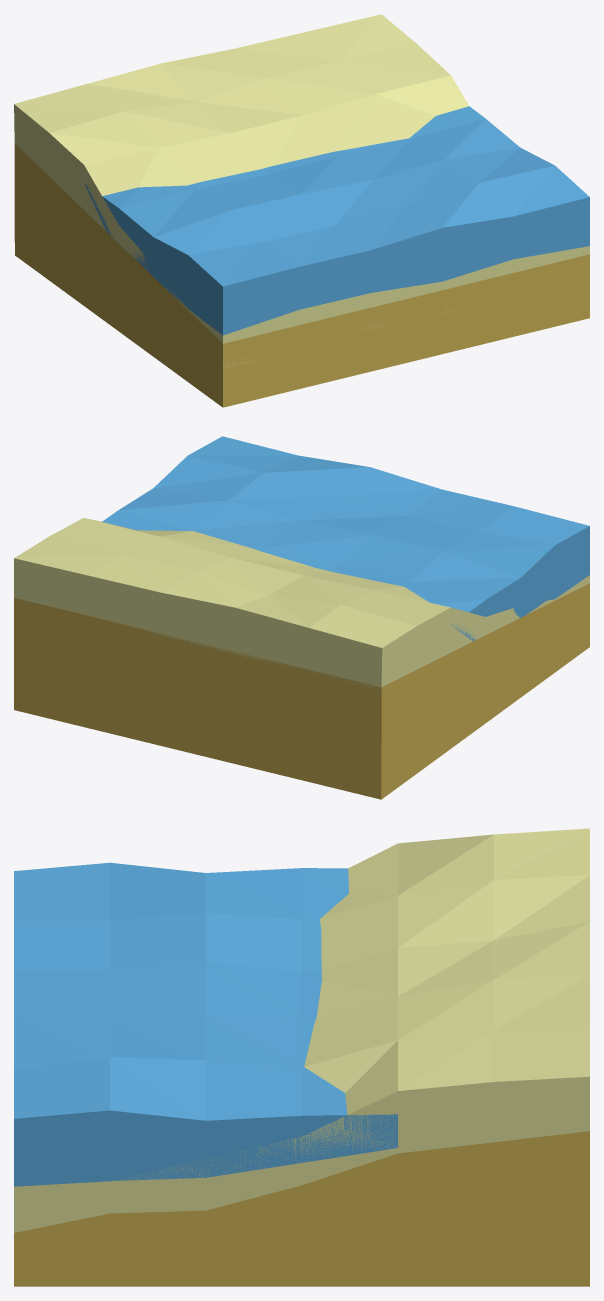
The model's file is beach01.fbx.
3 views of the same model, one above another, from view 1: azimuth 30°, elevation 25°; view 2: azimuth 150°, elevation 25°; view 3: azimuth 270°, elevation 25° (orthographic). The views are drawn at different scales.
Visible parts, largest first — view 1: world-beach2; view 2: world-beach2; view 3: world-beach2.
Part boxes in pixels (left/top/right/bottom): world-beach2: left=14, top=14, right=589, bottom=407; world-beach2: left=14, top=436, right=589, bottom=799; world-beach2: left=14, top=828, right=589, bottom=1286.
Size of the model in its own units: 20 by 8.12 by 19.61.
